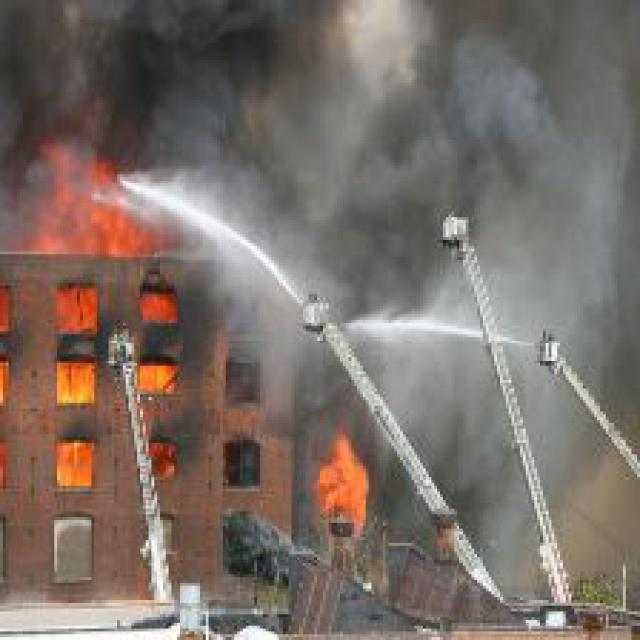fire: (37, 146, 166, 257), (314, 420, 374, 523), (54, 437, 94, 489), (54, 283, 97, 331), (54, 360, 100, 403), (140, 283, 186, 326), (134, 360, 177, 394)
